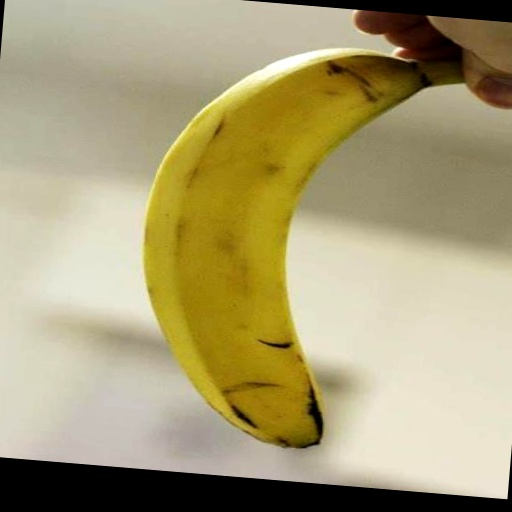fruit: (144, 49, 461, 448)
